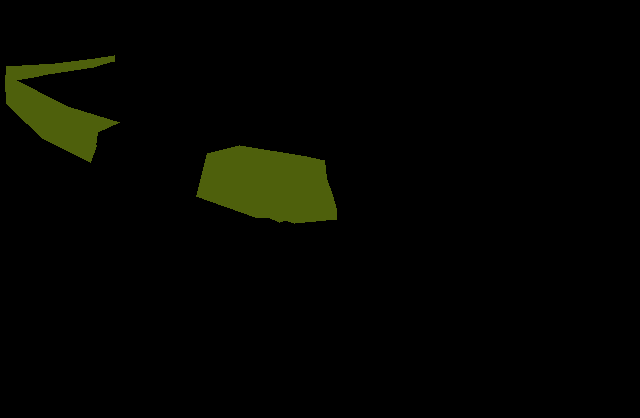Train: (5, 55, 337, 223)
